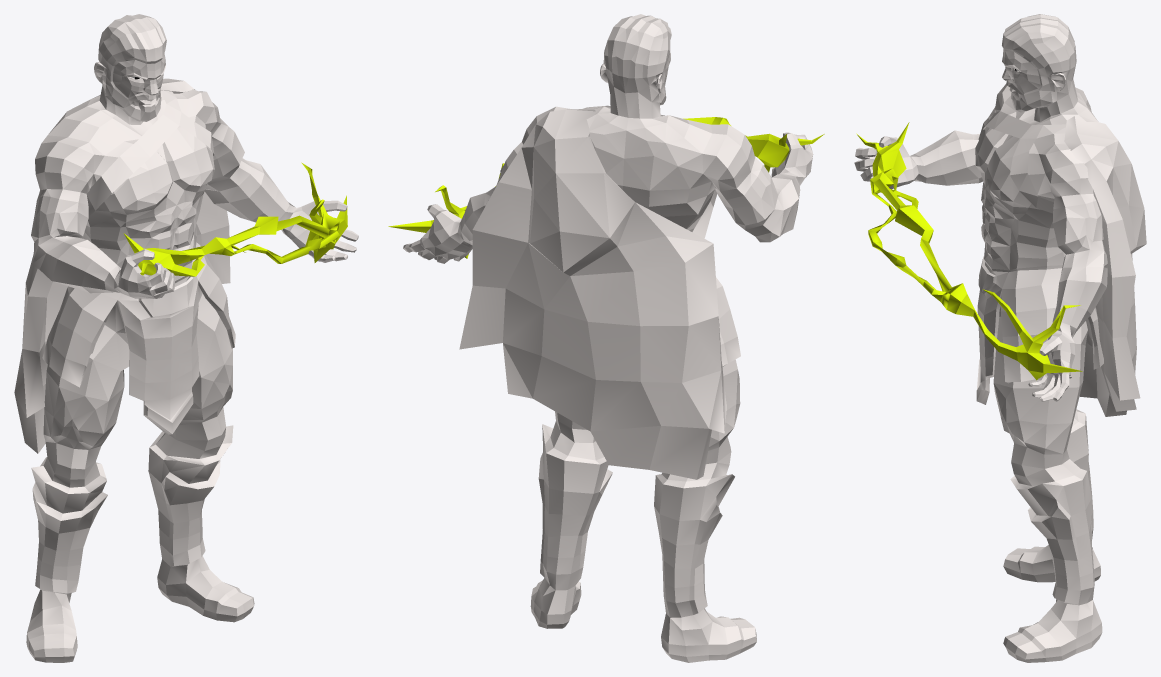
File: zeus.fbx
3 renders of one model, left to right at view 1: azimuth 30°, elevation 25°; view 2: azimuth 150°, elevation 25°; view 3: azimuth 270°, elevation 25°, orthographic. The views are drawn at different scales.
Parts seen in each view (by area): view 1: Zeus.obj; view 2: Zeus.obj; view 3: Zeus.obj.
Part boxes in pixels (bbox=[...]): Zeus.obj: bbox=[14, 14, 358, 662]; Zeus.obj: bbox=[388, 14, 824, 662]; Zeus.obj: bbox=[854, 14, 1146, 662].
Bounding box in the file's own units: 179 × 296 × 132.
